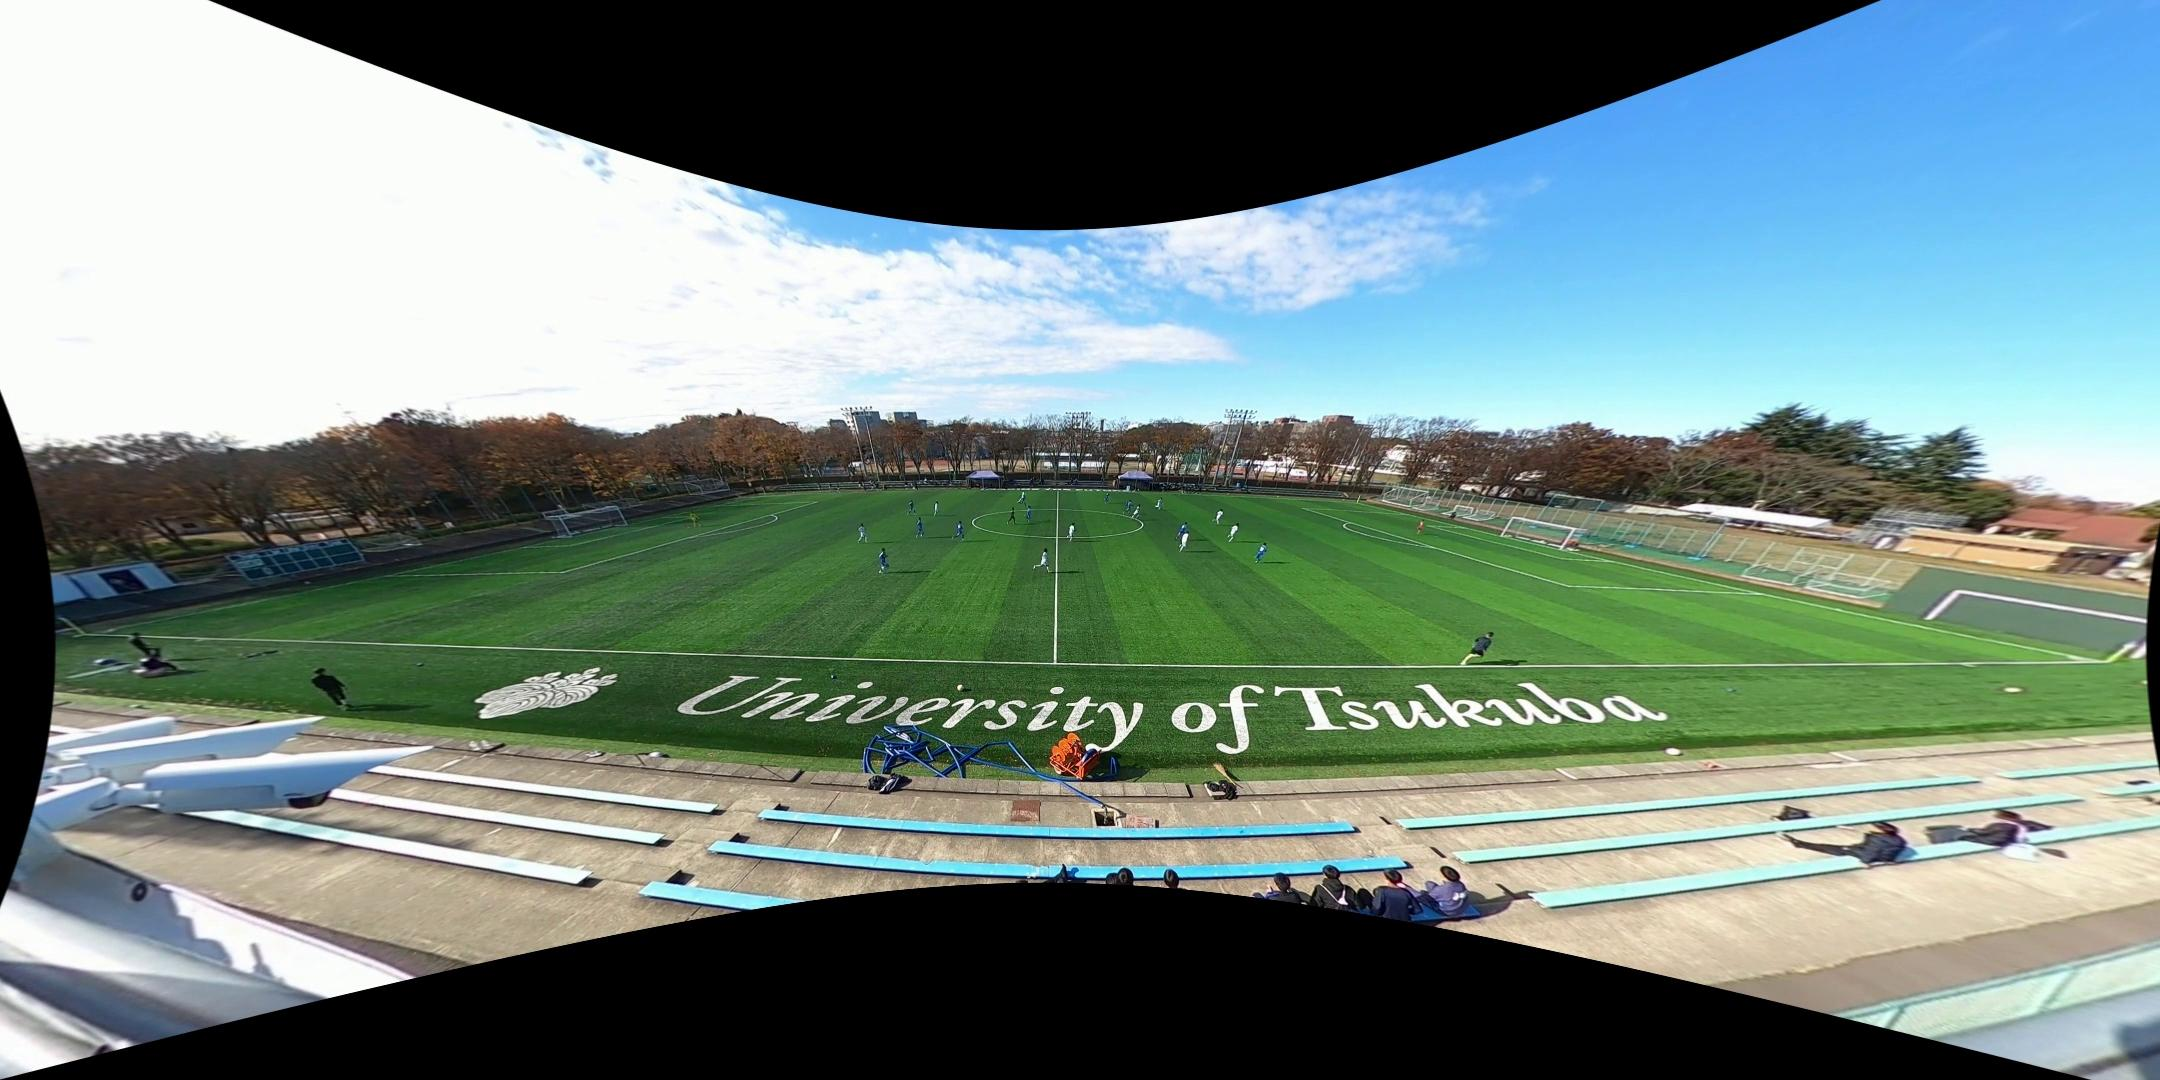person: (1462, 630, 1493, 665), (1033, 548, 1052, 573), (1253, 542, 1269, 563), (878, 548, 890, 573), (1175, 522, 1190, 540), (1178, 531, 1190, 552), (856, 523, 868, 543), (952, 520, 964, 540), (1227, 523, 1239, 542), (689, 512, 702, 527), (1212, 509, 1224, 525), (1006, 507, 1017, 524), (915, 517, 924, 537), (1015, 489, 1027, 504), (1122, 500, 1134, 514), (1023, 505, 1032, 523), (1066, 523, 1075, 541), (1131, 504, 1141, 520), (1154, 497, 1164, 510), (1416, 519, 1424, 535), (907, 500, 915, 515), (1018, 494, 1028, 505), (933, 501, 940, 516), (1103, 493, 1110, 504)
